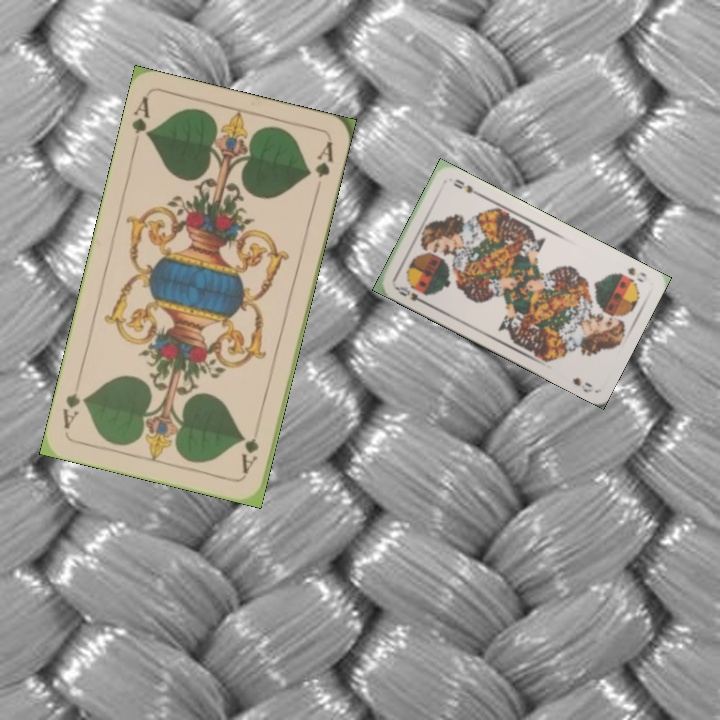GA: (127, 93, 154, 152), (237, 419, 263, 477)
SO: (390, 282, 428, 306), (623, 263, 649, 285)
